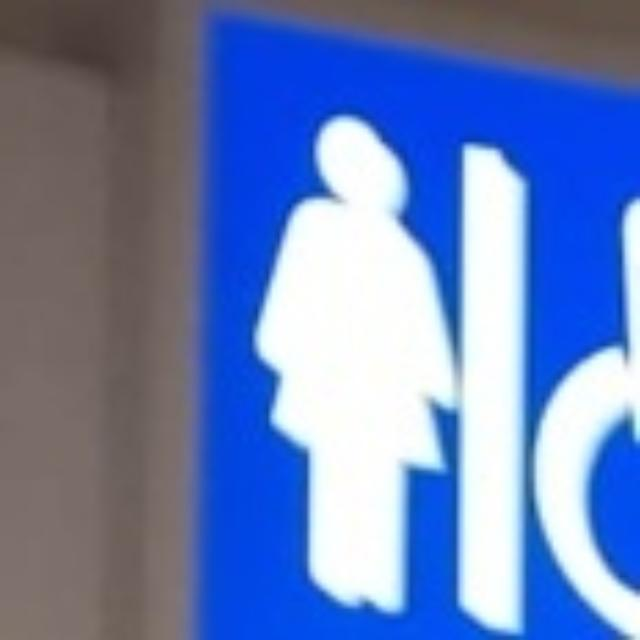wc nu: (254, 116, 447, 607)
